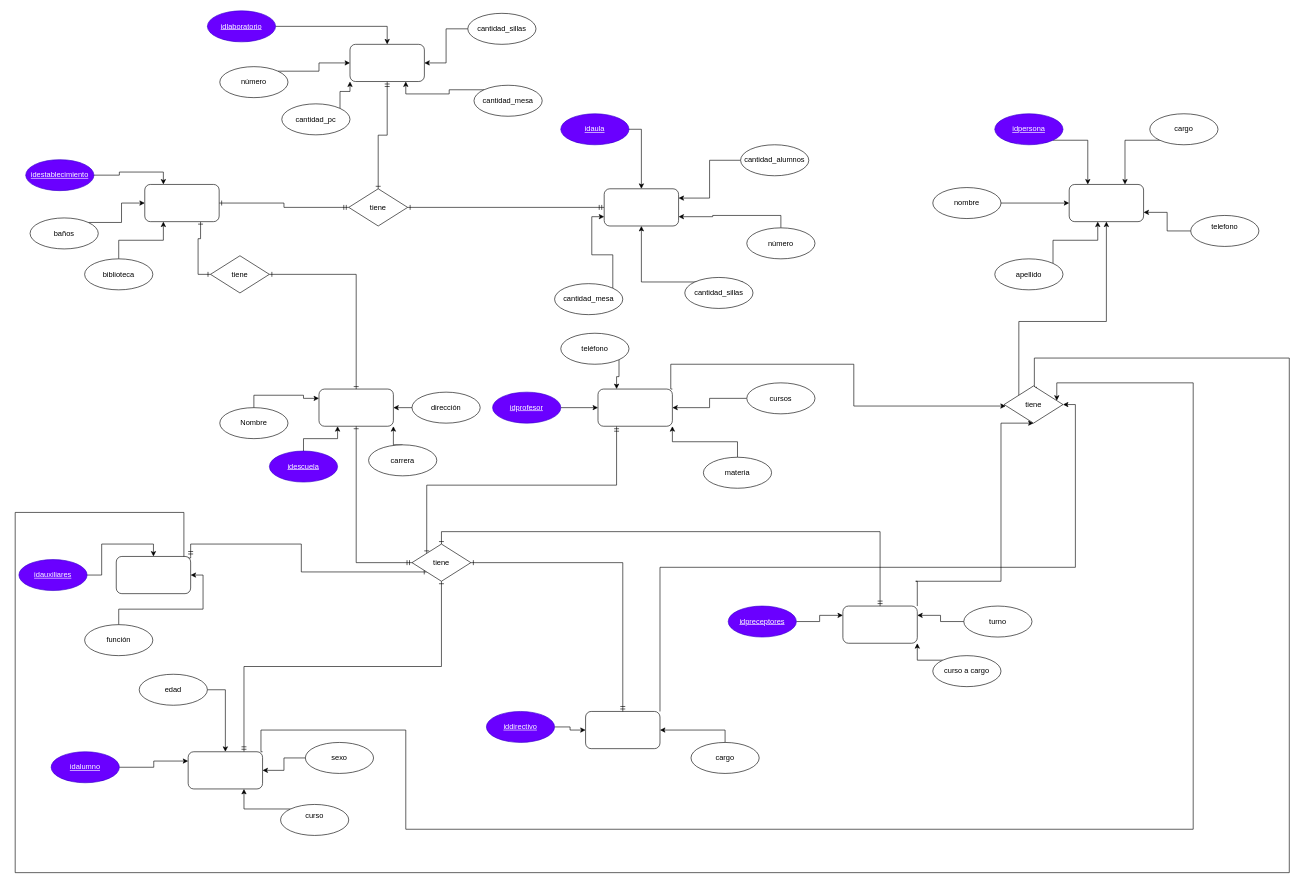
This 1305x888 diagram has some shape labels left out. Here are the shapes that lost their labels. From the top down, the centre of each, then its label:
At point 386,63: "laboratorio".
At point 181,203: "establecimiento".
At point 641,207: "aula".
At point 1106,203: "persona".
At point 355,407: "Escuela".
At point 634,407: "profesor".
At point 153,575: "auxiliares".
At point 879,624: "preceptores".
At point 622,730: "directivos".
At point 225,770: "alumnos".
